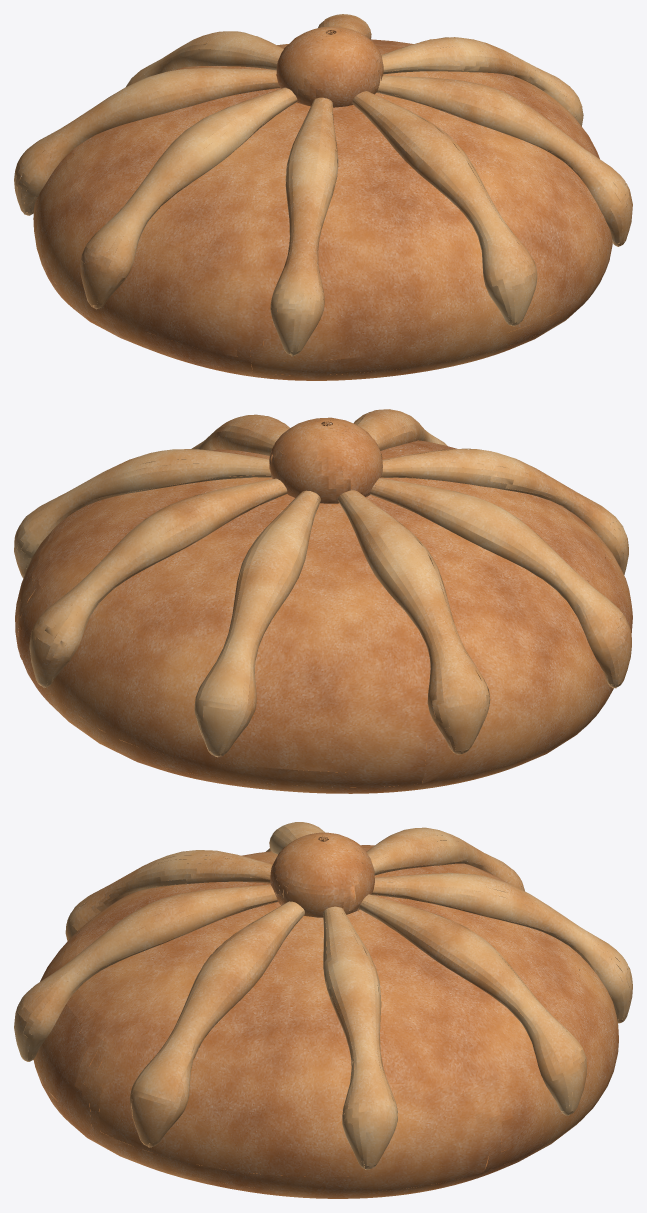
The model's file is pan_de_muerto.gltf.
The picture shows the model from 3 angles, top to bottom: view 1: azimuth 30°, elevation 25°; view 2: azimuth 150°, elevation 25°; view 3: azimuth 270°, elevation 25°; orthographic projection. The views are drawn at different scales.
Parts seen in each view (by area): view 1: cuerpo, huesito.006, huesito.004, huesito.005, huesito.007, huesito.003, bola, huesito, huesito.002, huesito.001; view 2: cuerpo, huesito.003, huesito.002, huesito.001, huesito.004, huesito, huesito.005, bola, huesito.007, huesito.006; view 3: cuerpo, huesito.007, huesito.001, huesito, huesito.006, huesito.002, bola, huesito.005, huesito.003, huesito.004.
Part boxes in pixels (x1,y1,x2,y2): cuerpo: (33,39,612,380); huesito.006: (352,91,537,326); huesito.004: (80,87,297,309); huesito.005: (270,89,338,356); huesito.007: (376,75,632,246); huesito.003: (14,68,279,215); bola: (276,26,383,107); huesito: (381,37,583,126); huesito.002: (126,31,283,86); huesito.001: (318,14,371,67); cuerpo: (15,440,632,793); huesito.003: (338,490,490,754); huesito.002: (194,490,320,757); huesito.001: (29,478,287,687); huesito.004: (343,477,631,688); huesito: (14,449,271,578); huesito.005: (342,448,628,574); bola: (269,417,382,503); huesito.007: (191,414,289,455); huesito.006: (353,409,447,450); cuerpo: (33,845,618,1198); huesito.007: (130,901,304,1147); huesito.001: (355,892,586,1115); huesito: (323,906,397,1169); huesito.006: (14,884,306,1061); huesito.002: (354,873,632,1023); bola: (270,832,374,917); huesito.005: (65,850,301,941); huesito.003: (360,827,524,891); huesito.004: (266,822,324,854).
Size of the model in its own units: 0.2769 by 0.1225 by 0.2706.
1 material, 1 textured.
